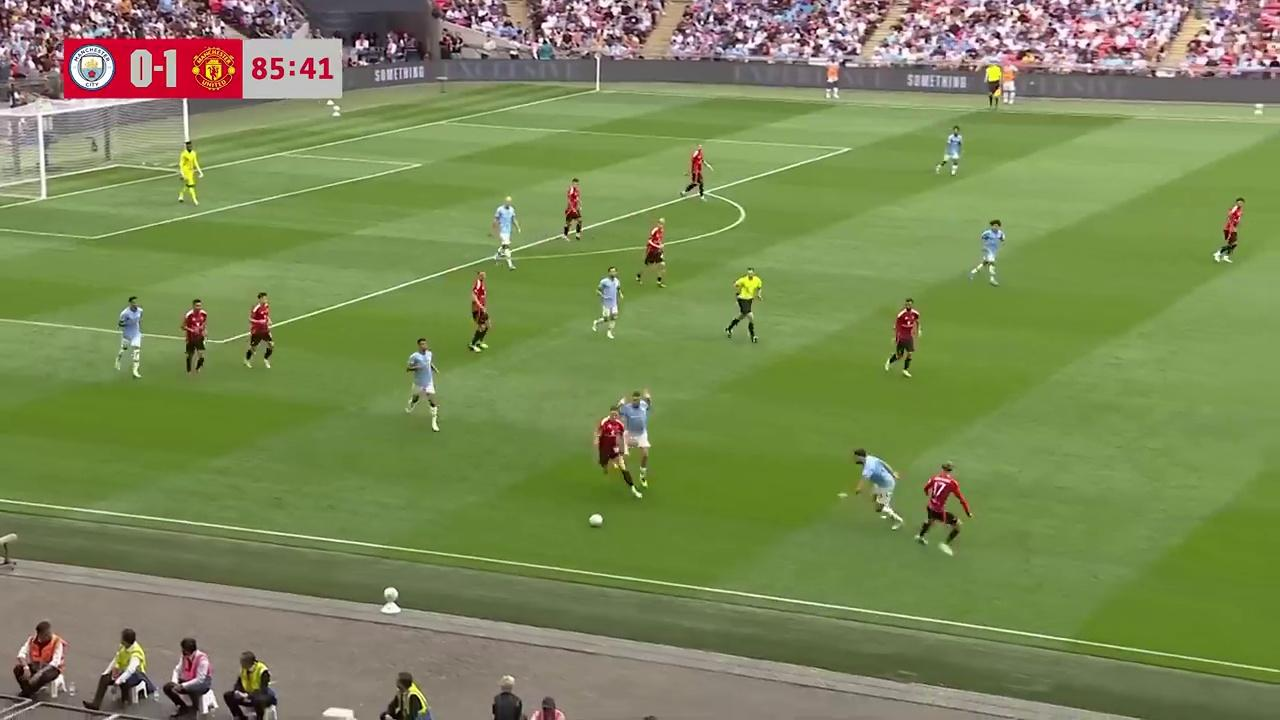ball: (587, 509, 605, 528)
player: (913, 461, 972, 552), (591, 405, 646, 498), (851, 447, 904, 528), (615, 389, 652, 490), (404, 337, 441, 431), (884, 297, 921, 377), (113, 295, 143, 378), (968, 219, 1004, 286), (591, 266, 623, 340), (244, 291, 274, 369), (636, 219, 667, 287), (1213, 197, 1244, 264), (181, 298, 207, 376), (489, 197, 517, 269), (469, 271, 492, 353), (177, 141, 202, 205), (685, 144, 712, 201), (561, 178, 583, 241), (935, 126, 963, 175), (492, 195, 520, 238)
referee: (726, 266, 763, 343), (984, 63, 1003, 109)
